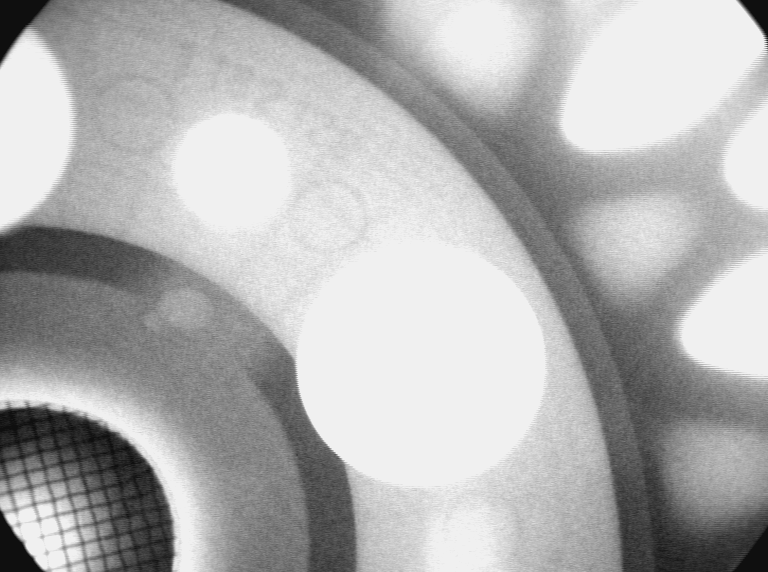defect: (140, 285, 217, 340)
